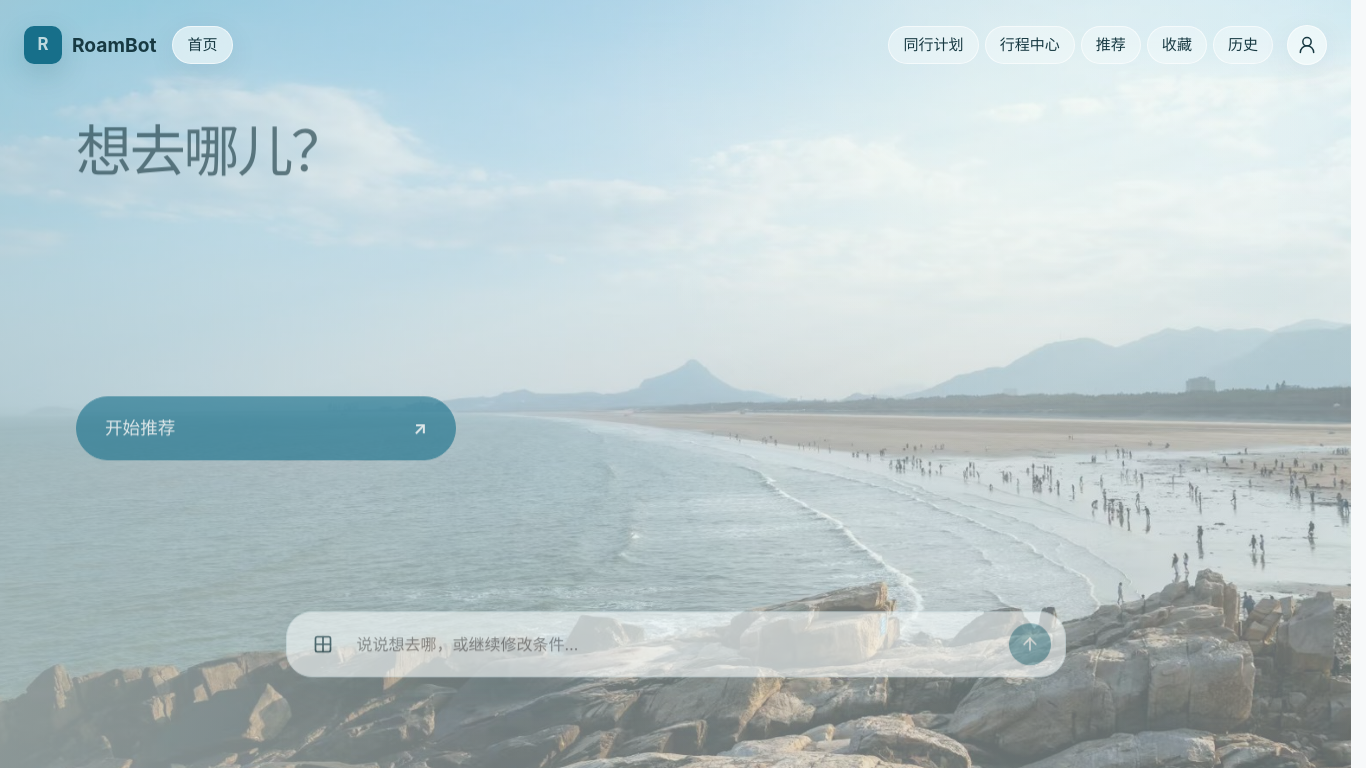
Test: progressive SearchWorkspace business regression › lets a guest create their first condition manually without sending an AI request
This screenshot has width=1366, height=768.
Step 1. Click the button named "更多功能" → (322, 701), box top-left (300, 679), bottom-right (344, 723)
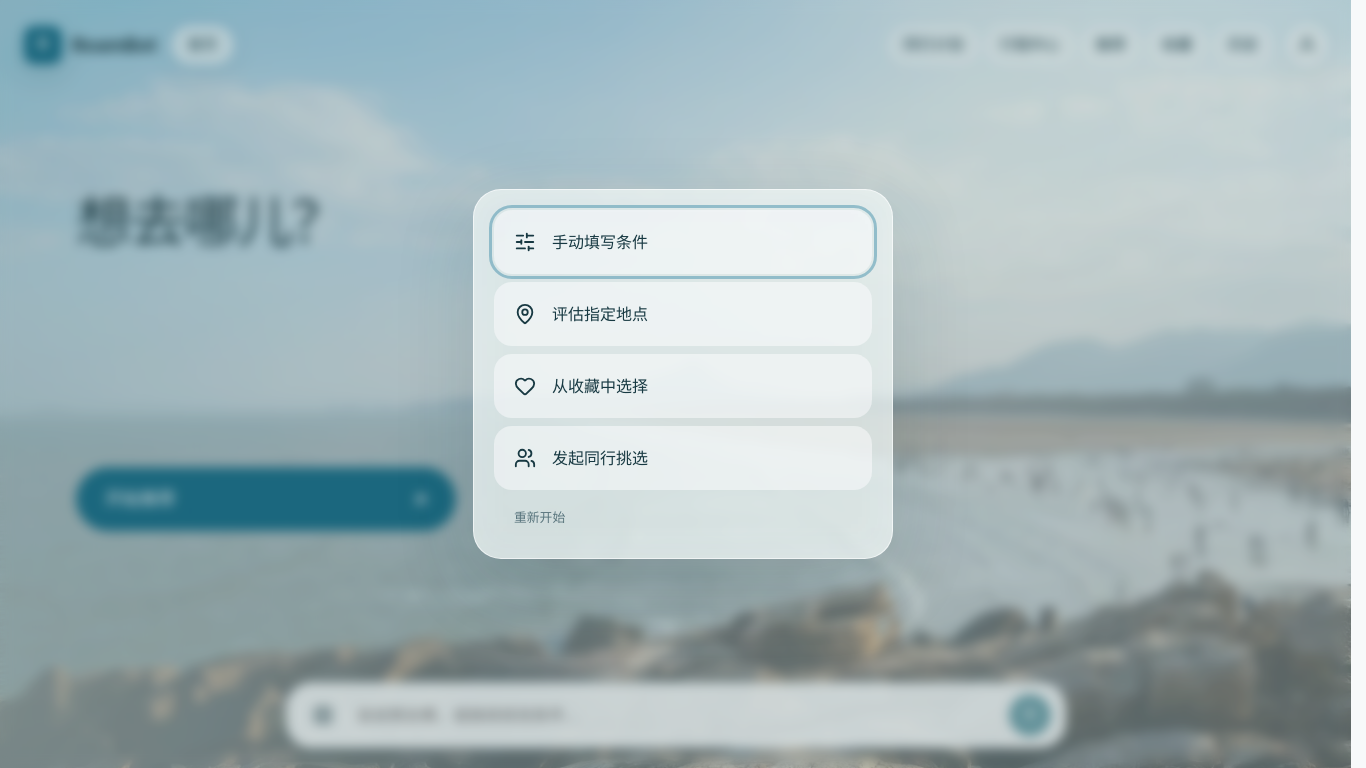
Step 2. Click the button "手动填写条件" → (600, 242), box top-left (494, 210), bottom-right (872, 274)
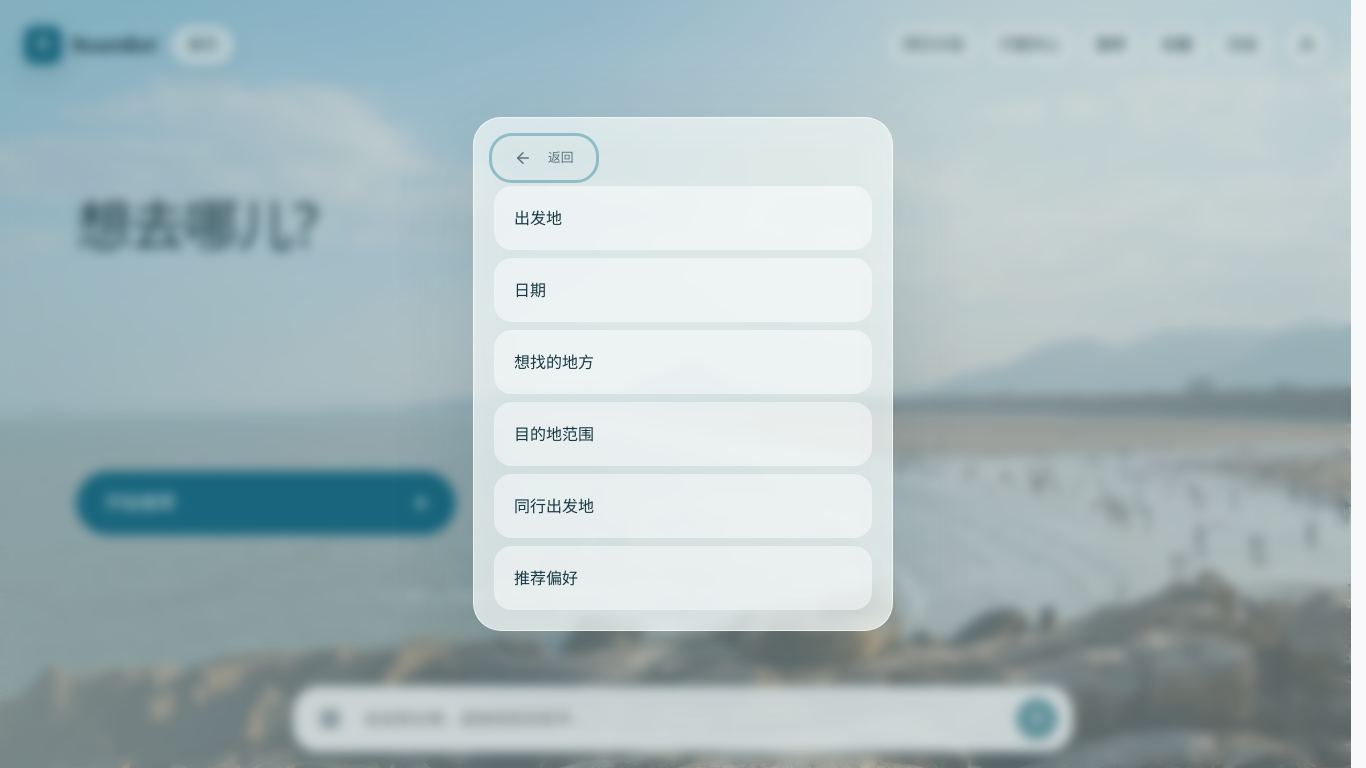
Step 3. Click the button "出发地" → (538, 218), box top-left (494, 186), bottom-right (872, 250)
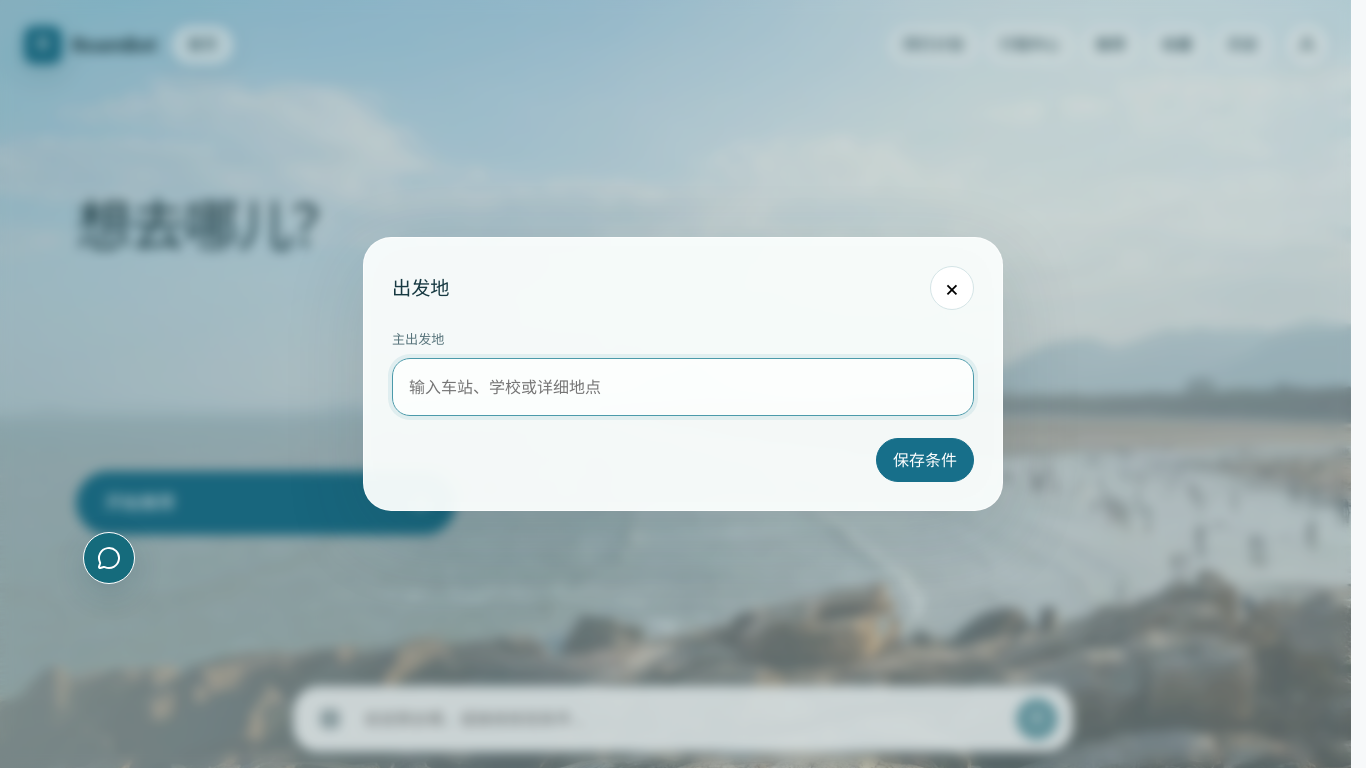
Step 4. Type "苏州站" into the dropdown labelled "主出发地" → (683, 387), box top-left (392, 358), bottom-right (974, 416)
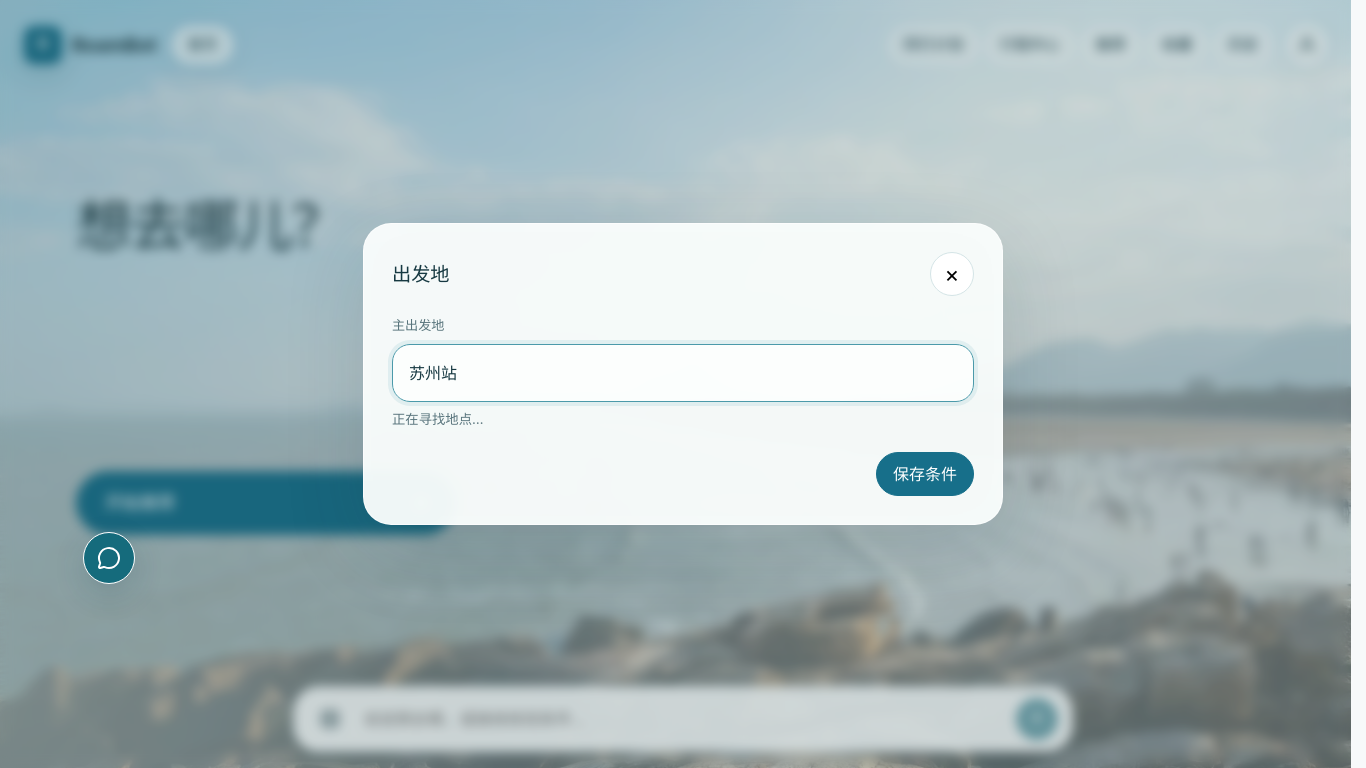
Step 5. Click the button "保存条件" → (925, 474), box top-left (876, 452), bottom-right (974, 496)
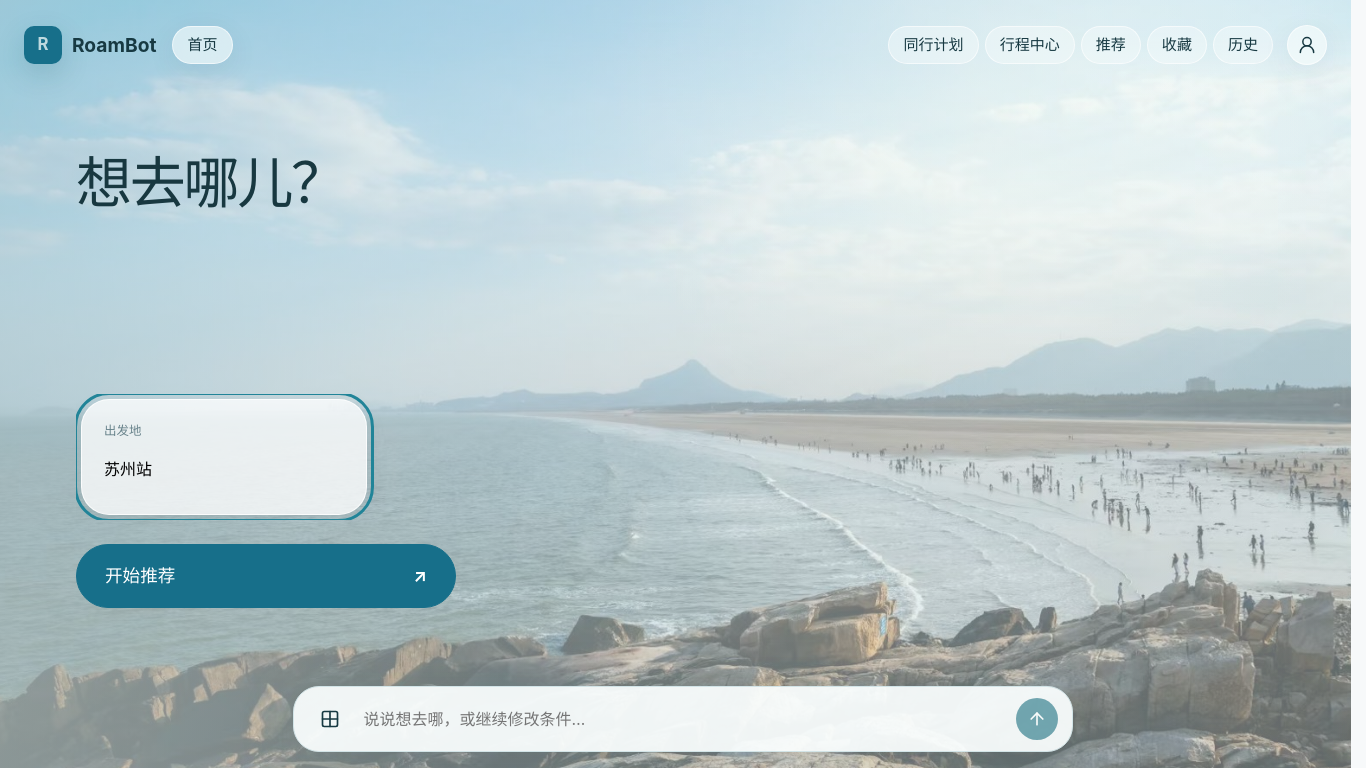
Now the button with aria-label "编辑出发地" shows "苏州站", box top-left (80, 399), bottom-right (366, 515)
